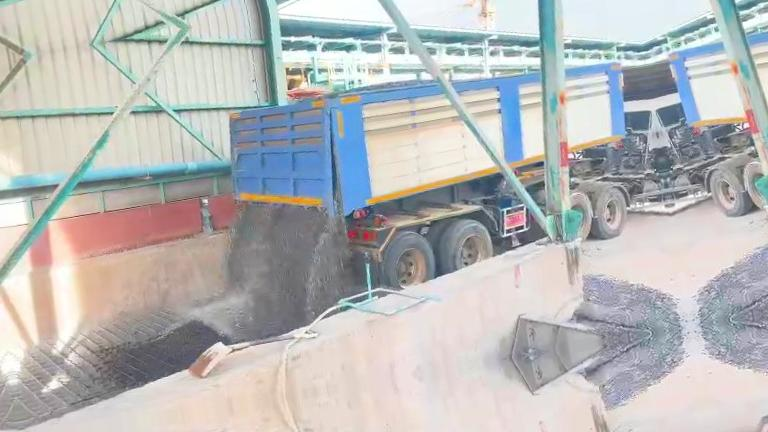gravel: (226, 203, 358, 338), (574, 274, 686, 339)
